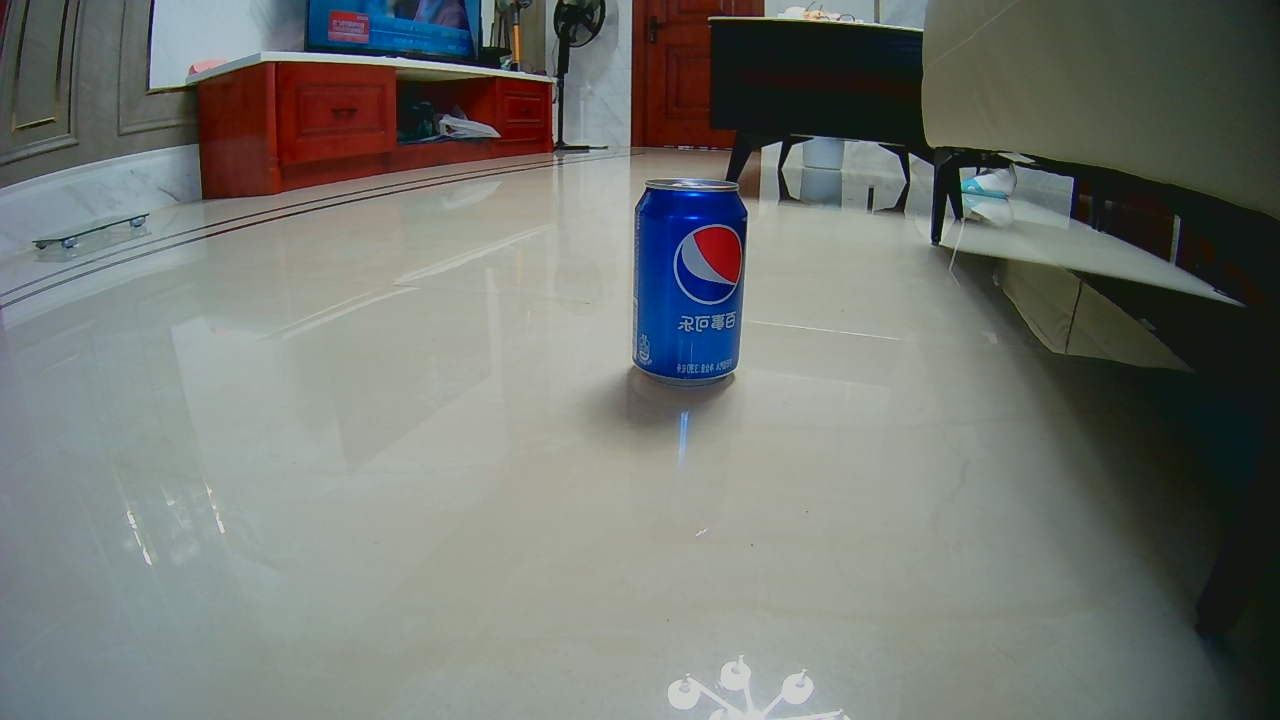pessi: (638, 181, 738, 387)
